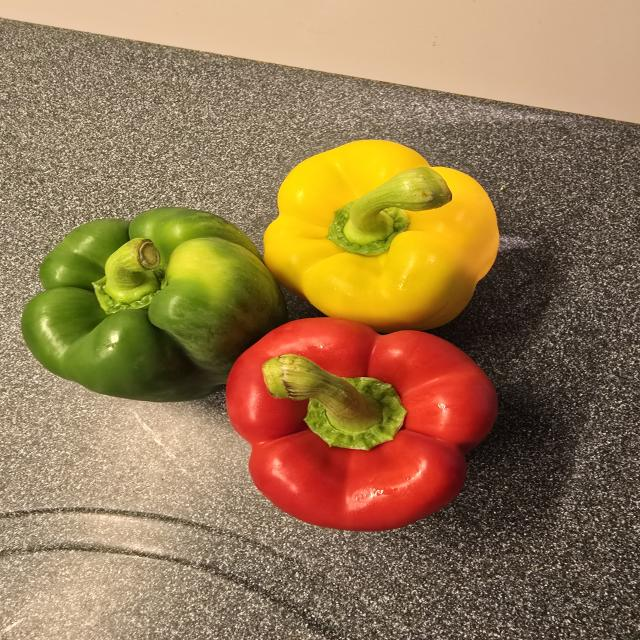Bell Pepper: (227, 318, 497, 531), (21, 206, 287, 402), (264, 140, 499, 332)
